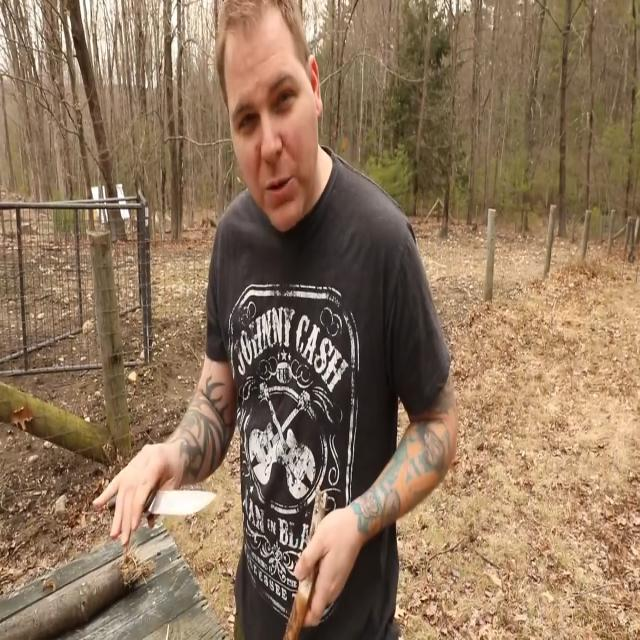knife: (146, 479, 220, 533)
